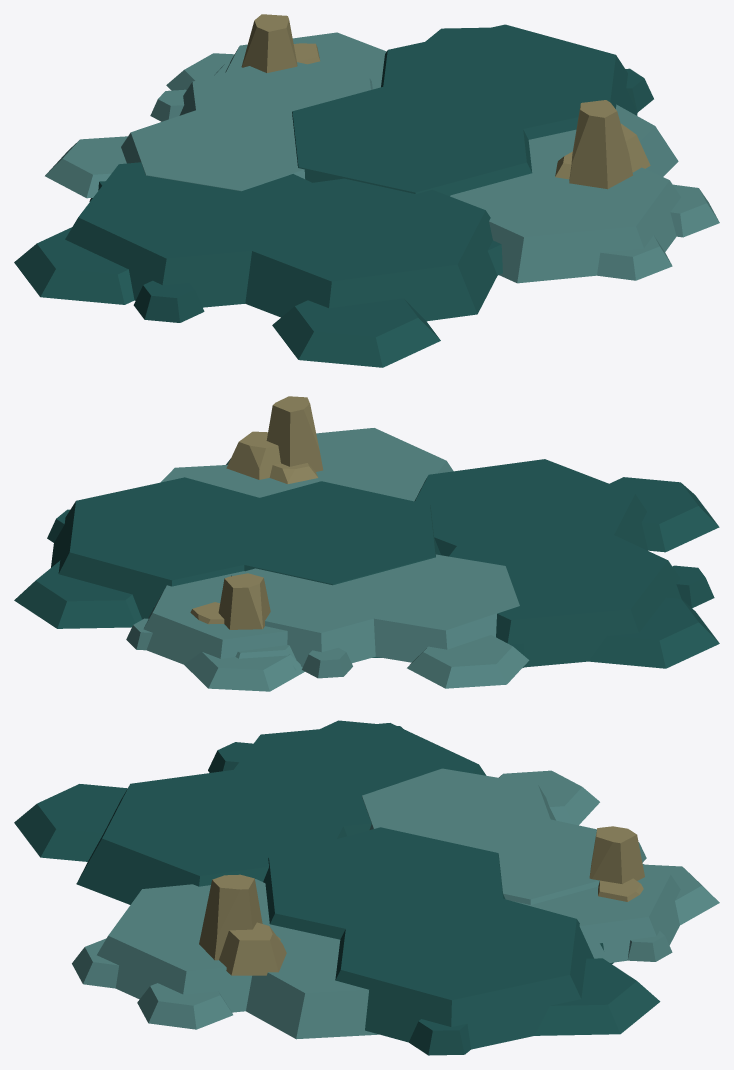
File: small_map_2.fbx
The picture shows the model from 3 angles, top to bottom: view 1: azimuth 30°, elevation 25°; view 2: azimuth 150°, elevation 25°; view 3: azimuth 270°, elevation 25°; orthographic projection. The views are drawn at different scales.
Visible parts, largest first — view 1: rockFlat.017, rockFlat.012, rockFlat.015, rockFlat.011, rockA.002, rockFlat.010, rockA.003; view 2: rockFlat.017, rockFlat.012, rockFlat.011, rockFlat.010, rockFlat.015, rockA.002, rockA.003; view 3: rockFlat.012, rockFlat.017, rockFlat.015, rockFlat.011, rockFlat.010, rockA.002, rockA.003.
Part boxes in pixels (left/top/right/bottom): rockFlat.017: left=14, top=162, right=502, bottom=367; rockFlat.012: left=292, top=24, right=653, bottom=196; rockFlat.015: left=450, top=104, right=719, bottom=283; rockFlat.011: left=45, top=62, right=372, bottom=198; rockA.002: left=555, top=100, right=650, bottom=189; rockFlat.010: left=166, top=32, right=386, bottom=90; rockA.003: left=241, top=14, right=320, bottom=72; rockFlat.017: left=414, top=459, right=719, bottom=668; rockFlat.012: left=14, top=477, right=440, bottom=657; rockFlat.011: left=231, top=554, right=529, bottom=688; rockFlat.010: left=126, top=571, right=304, bottom=691; rockFlat.015: left=160, top=428, right=453, bottom=501; rockA.002: left=226, top=396, right=323, bottom=484; rockA.003: left=190, top=573, right=270, bottom=629; rockFlat.012: left=263, top=827, right=660, bottom=1055; rockFlat.017: left=14, top=720, right=486, bottom=904; rockFlat.015: left=72, top=879, right=378, bottom=1039; rockFlat.011: left=362, top=768, right=646, bottom=904; rockFlat.010: left=513, top=864, right=719, bottom=962; rockA.002: left=199, top=874, right=286, bottom=975; rockA.003: left=589, top=826, right=644, bottom=901.
Bounding box in the file's own units: 4236 × 625 × 3894.
